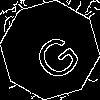G: (25, 25, 84, 85)
